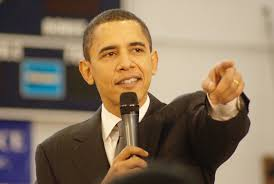hand: (194, 50, 251, 114)
